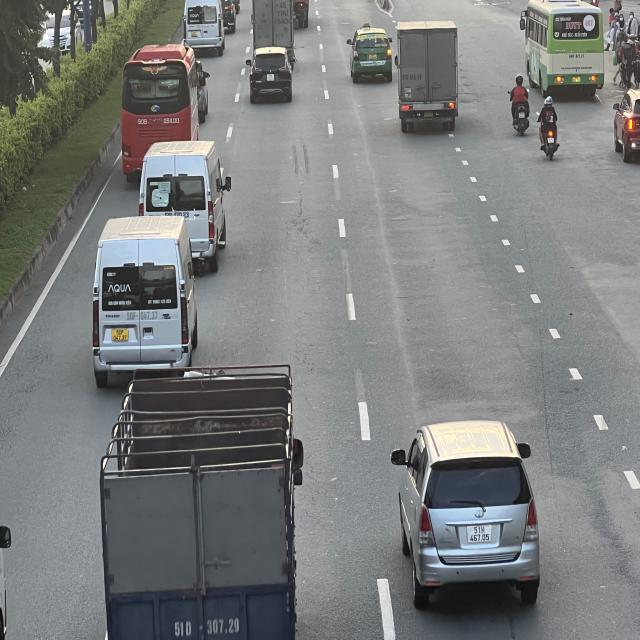car: (390, 422, 536, 607), (246, 46, 296, 101), (346, 28, 393, 84), (614, 91, 640, 161)
coach: (121, 42, 206, 174), (522, 2, 608, 96)
truck: (103, 367, 308, 640), (396, 22, 458, 132), (252, 1, 294, 52)
van: (90, 214, 198, 385), (142, 140, 232, 269), (184, 0, 225, 52)
